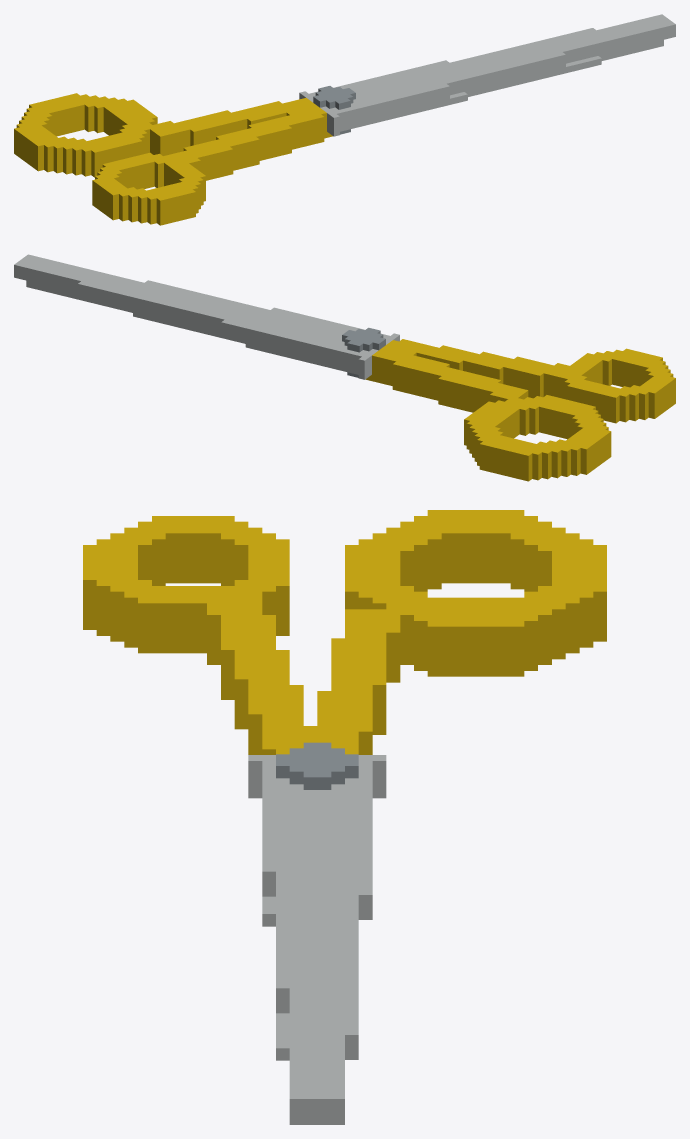
File: aramid_shears.glb
3 renders of one model, top to bottom at view 1: azimuth 30°, elevation 25°; view 2: azimuth 150°, elevation 25°; view 3: azimuth 270°, elevation 25°, orthographic. The views are drawn at different scales.
Visible parts, largest first — view 1: aramid_shears:compound; view 2: aramid_shears:compound; view 3: aramid_shears:compound.
Part boxes in pixels (box(x1,y1,x2,y2)): aramid_shears:compound: box(14, 14, 675, 225); aramid_shears:compound: box(14, 254, 675, 481); aramid_shears:compound: box(83, 510, 606, 1124).
Size of the model in its own units: 0.202 by 0.01 by 0.076.
